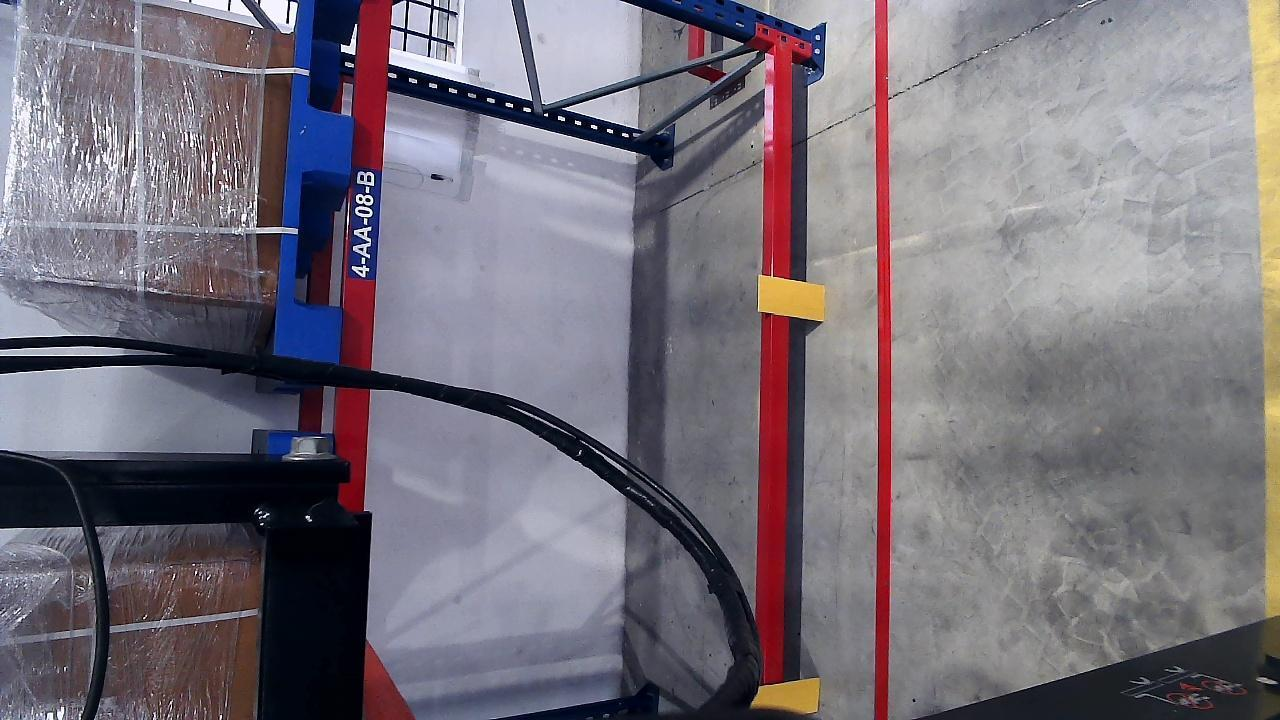red_line: (870, 0, 893, 720)
yellow_line: (1252, 2, 1279, 620)
